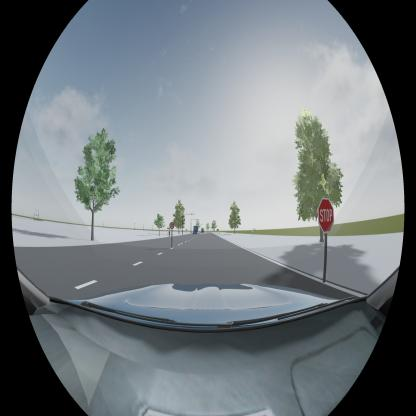Speed Limit 20: (170, 222, 174, 229)
Stop: (318, 198, 334, 233)
